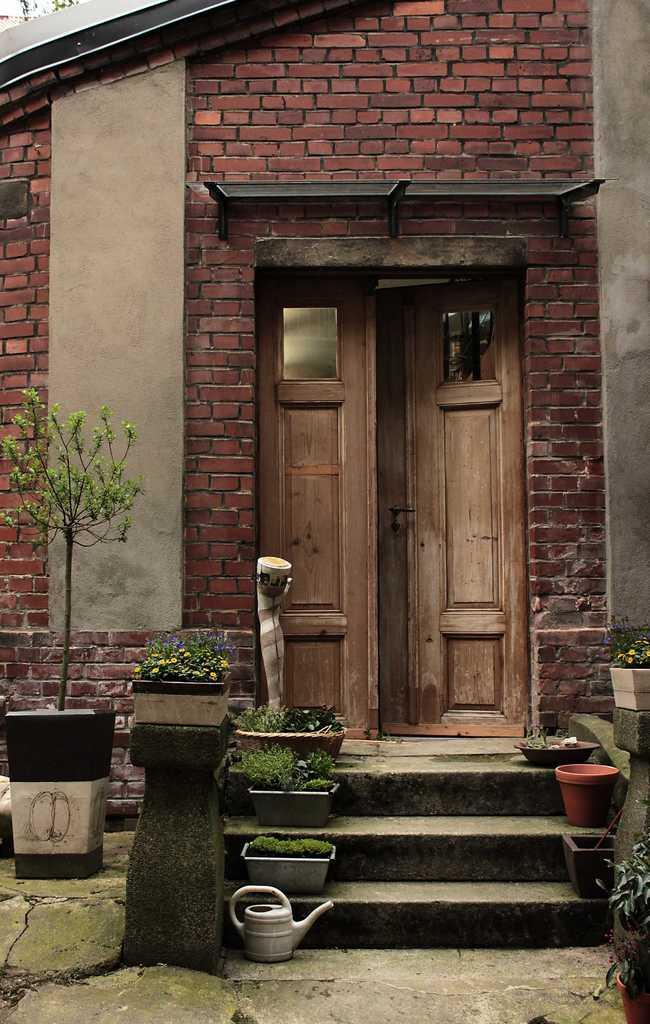handle: (389, 495, 416, 529)
